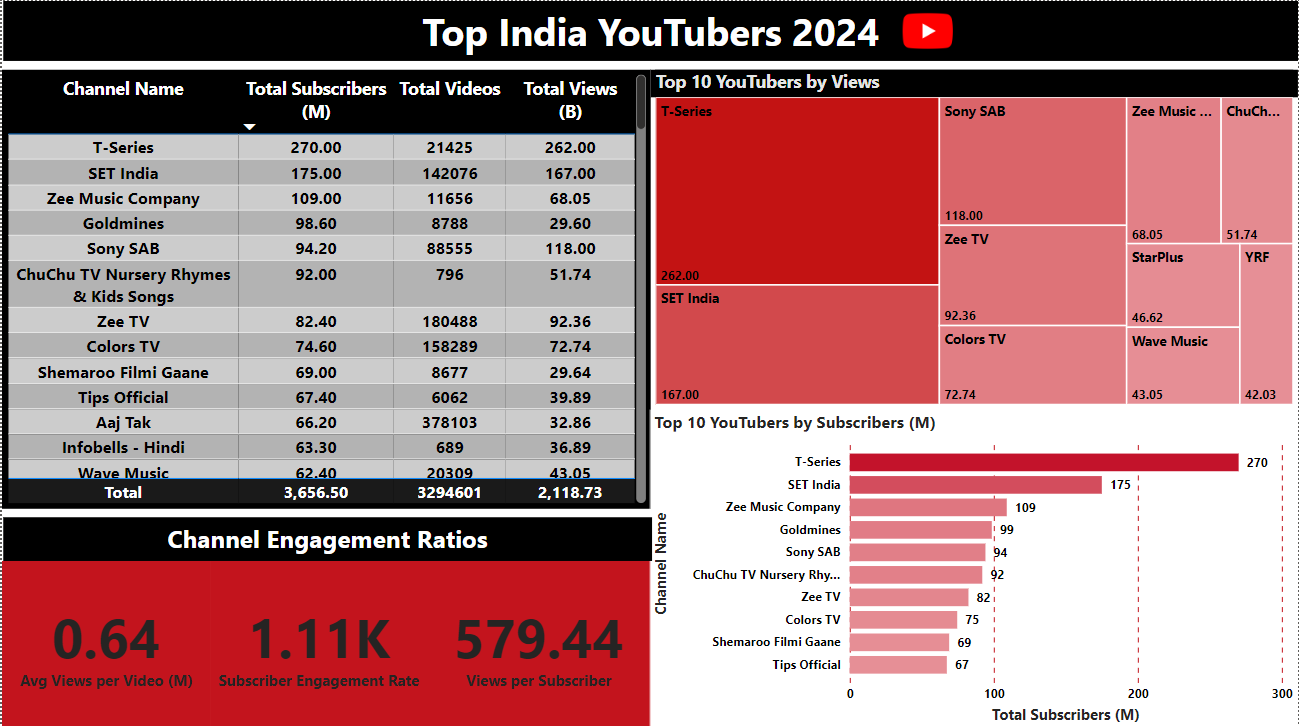

What the dashboard file says about the page in this screenshot:
{"tool":"powerbi","page":{"name":"Page 1","canvas":[1280,720],"ordinal":0},"visuals":[{"type":"textbox","box":[0,0,1279.1,82],"z":0},{"type":"tableEx","fields":{"Values":["view_india_youtubers_2024.channel_name","view_india_youtubers_2024.Total Subscribers (M)","view_india_youtubers_2024.Total Videos","view_india_youtubers_2024.Total Views (B)"]},"box":[1.2,84.4,640.8,417],"z":1000},{"type":"treemap","title":"Top 10 YouTubers by Views","fields":{"Group":["view_india_youtubers_2024.Channel_name"],"Values":["view_india_youtubers_2024.Total Views (B)"]},"box":[640.8,84.4,639.5,319.2],"z":2000},{"type":"card","fields":{"Values":["view_india_youtubers_2024.Avg Views per Video (M)"]},"box":[0,553.1,206.2,166.7],"z":3000},{"type":"card","fields":{"Values":["view_india_youtubers_2024.Subscriber Engagement Rate"]},"box":[206.7,551.5,212.8,167.5],"z":4000},{"type":"card","fields":{"Values":["view_india_youtubers_2024.Views per Subscriber"]},"box":[419.8,553.1,221,166.7],"z":5000},{"type":"clusteredBarChart","title":"Top 10 YouTubers by Subscribers (M) ","fields":{"Category":["view_india_youtubers_2024.Channel_name"],"Y":["view_india_youtubers_2024.Total Subscribers (M)"]},"box":[639.5,403.7,640.7,316],"z":6000},{"type":"textbox","box":[1.2,509.9,640.7,43.2],"z":7000},{"type":"image","box":[847.4,12.2,91.7,58.7],"z":8000},{"type":"slicer","fields":{"Values":["view_india_youtubers_2024.Channel_name"]},"box":[961.1,12.2,299.6,64.8],"z":8001}]}

Visuals, with their boxes in screenshot pixels (x1, y1, x2, y2), scaled from the page's 1280x720 canvas onto the 1299x726 screenshot:
textbox: select_region(0, 0, 1298, 83)
tableEx - view_india_youtubers_2024.channel_name x view_india_youtubers_2024.Total Subscribers (M): select_region(1, 85, 652, 506)
"Top 10 YouTubers by Views" treemap: select_region(650, 85, 1298, 407)
card - view_india_youtubers_2024.Avg Views per Video (M): select_region(0, 558, 209, 725)
card - view_india_youtubers_2024.Subscriber Engagement Rate: select_region(210, 556, 426, 725)
card - view_india_youtubers_2024.Views per Subscriber: select_region(426, 558, 650, 725)
"Top 10 YouTubers by Subscribers (M) " clusteredBarChart: select_region(649, 407, 1298, 725)
textbox: select_region(1, 514, 651, 558)
image: select_region(860, 12, 953, 71)
slicer - view_india_youtubers_2024.Channel_name: select_region(975, 12, 1279, 78)
